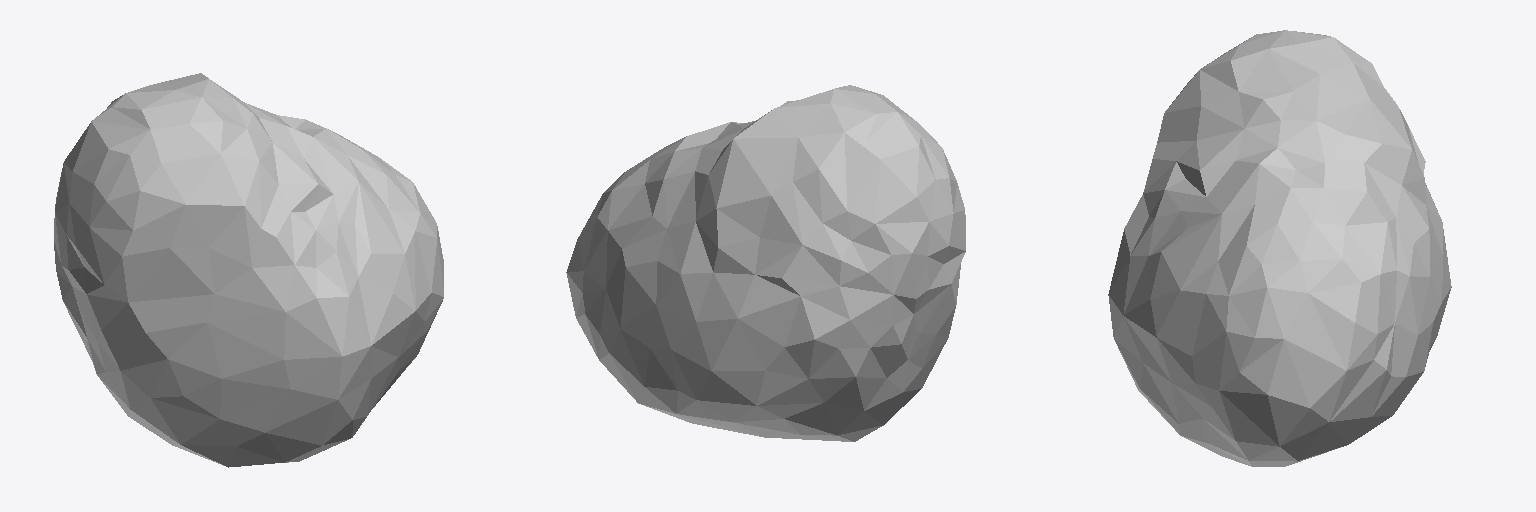
The model's file is rock.obj.
3 views of the same model, side by side, from view 1: azimuth 30°, elevation 25°; view 2: azimuth 150°, elevation 25°; view 3: azimuth 270°, elevation 25° (orthographic).
Parts seen in each view (by area): view 1: rock_lp; view 2: rock_lp; view 3: rock_lp.
Boxes of the visible parts, x1=… form: rock_lp: x1=54, y1=73, x2=443, y2=467; rock_lp: x1=566, y1=85, x2=965, y2=441; rock_lp: x1=1108, y1=30, x2=1451, y2=466.
Bounding box in the file's own units: 1.02 × 0.9606 × 0.841.